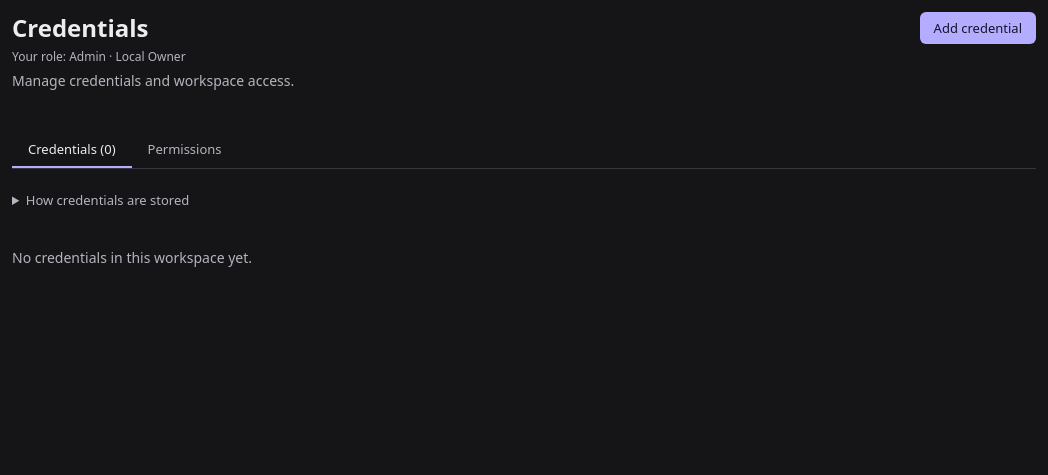
Test: Credentials › explains storage in a disclosure and names the tables
Expected: the heading "How credentials are stored" is shown, [12, 185, 189, 215]
Click the tab "Permissions".
click(185, 150)  # box [132, 132, 238, 168]
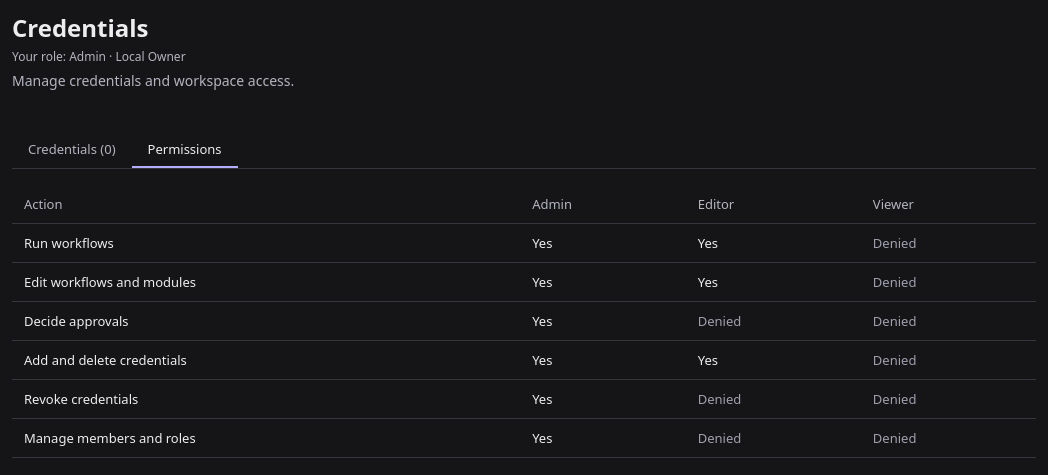
Now the table named "Role permissions" is shown, box [12, 185, 1036, 458]
